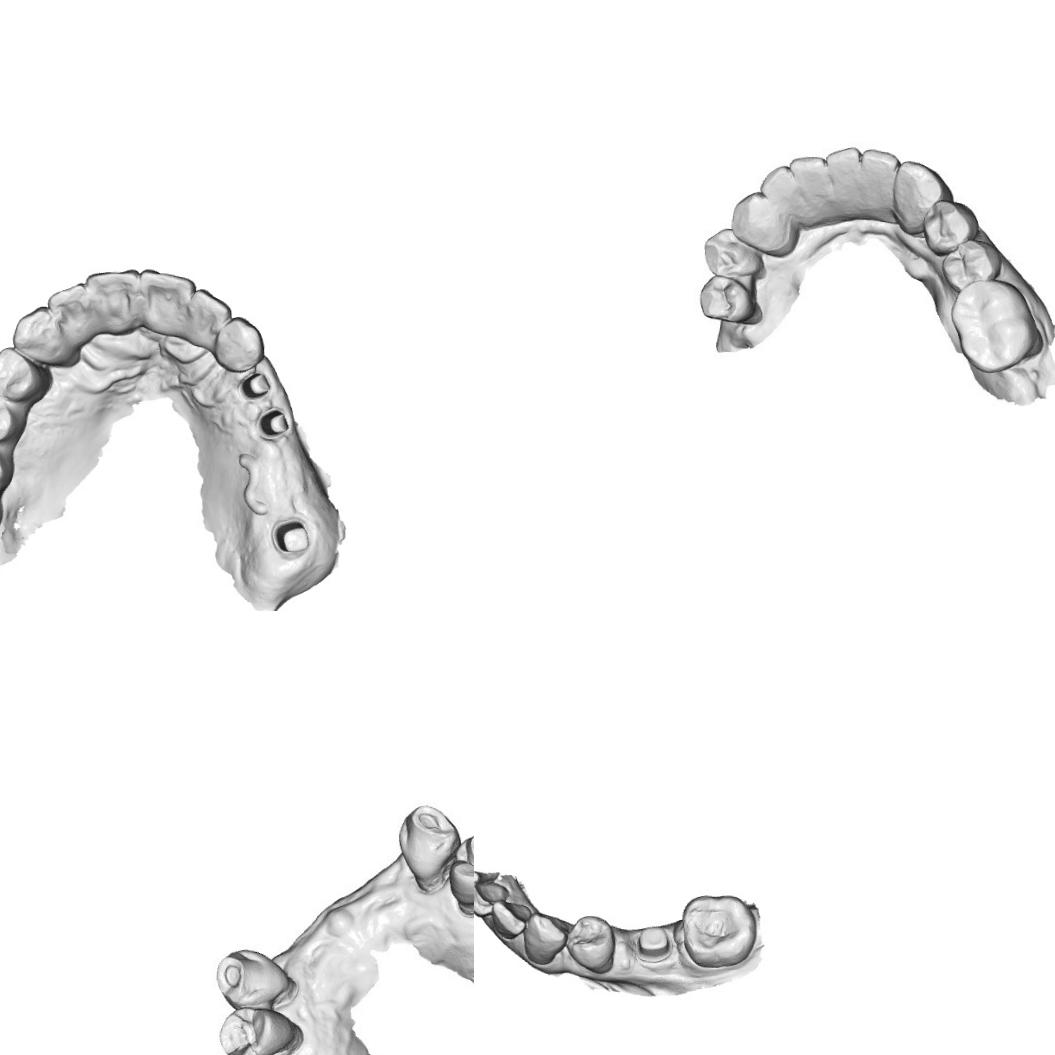abutment: (633, 923, 672, 964), (268, 517, 310, 555), (254, 406, 292, 443), (236, 370, 272, 403)
canine: (212, 941, 292, 1010), (396, 804, 459, 888), (730, 195, 799, 254), (893, 157, 946, 228), (212, 314, 266, 374), (10, 304, 60, 366), (520, 909, 568, 966)
incisor: (136, 267, 196, 338), (81, 266, 140, 336), (182, 287, 232, 350), (43, 280, 88, 347), (854, 148, 899, 212), (787, 153, 836, 209), (825, 145, 866, 201), (760, 164, 804, 210), (489, 897, 533, 941), (474, 880, 510, 918)
molar: (947, 278, 1046, 376), (678, 892, 758, 970), (0, 432, 15, 503)
premolar: (216, 1007, 292, 1055), (563, 912, 618, 976), (940, 236, 1001, 288), (703, 234, 765, 278), (0, 343, 44, 404), (700, 276, 752, 322), (921, 200, 971, 246), (454, 834, 474, 901), (0, 385, 18, 445)
